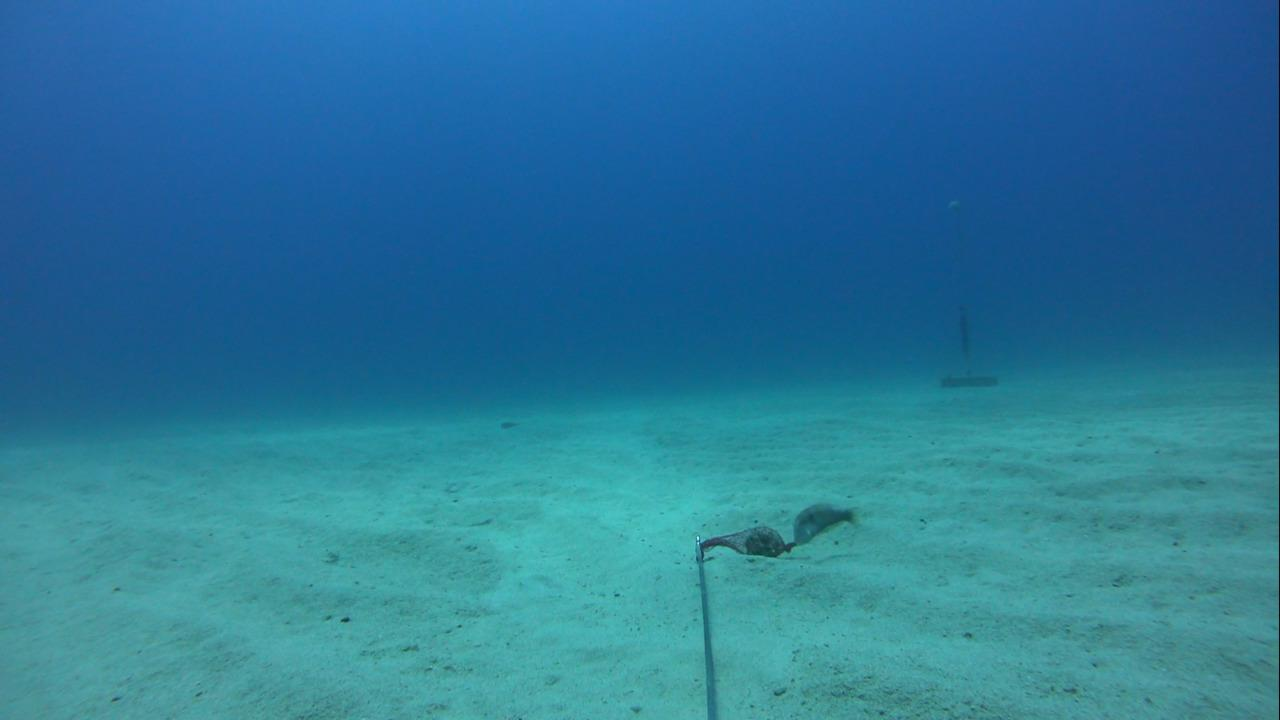raor: (785, 495, 867, 547)
